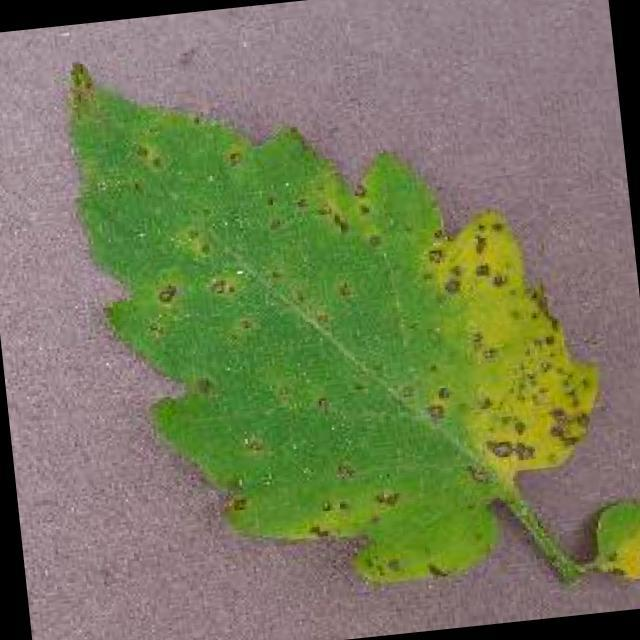Tomato Septoria spot leaf: (61, 12, 619, 614)
